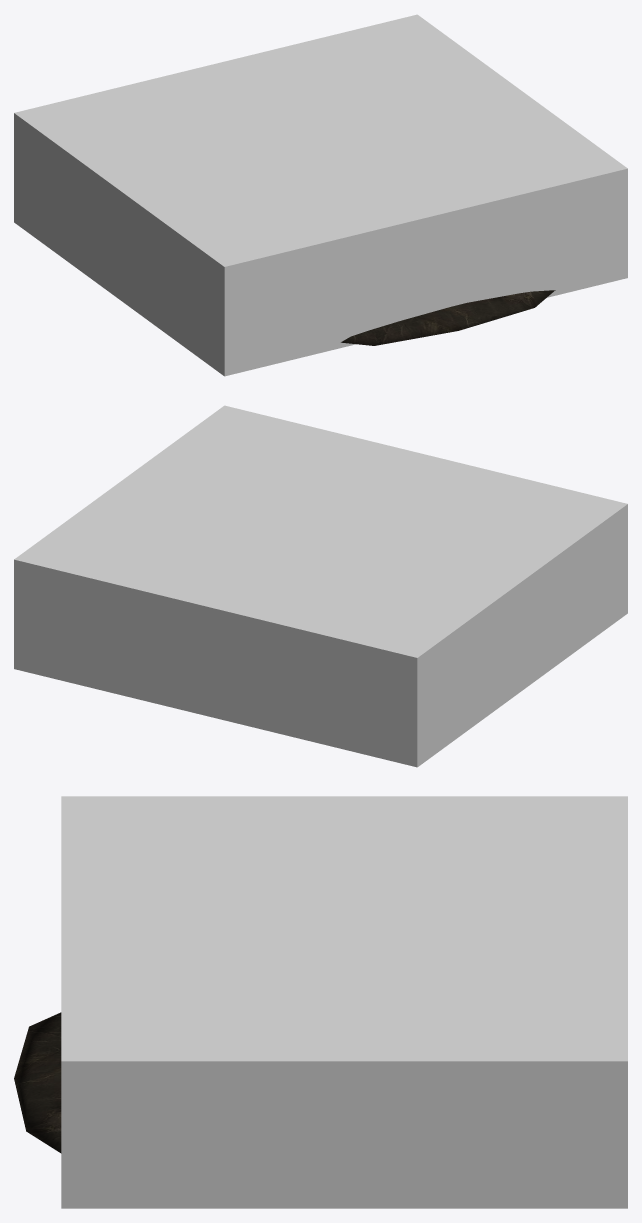
Rendered from sack_broken.glb.
3 views of the same model, one above another, from view 1: azimuth 30°, elevation 25°; view 2: azimuth 150°, elevation 25°; view 3: azimuth 270°, elevation 25° (orthographic). The views are drawn at different scales.
Visible parts, largest first — view 1: col_click, sack_broken; view 2: col_click; view 3: col_click, sack_broken.
Boxes of the visible parts, <box> form: col_click: <box>14,14,627,376</box>; sack_broken: <box>341,290,555,345</box>; col_click: <box>14,405,627,767</box>; col_click: <box>61,796,627,1208</box>; sack_broken: <box>14,1012,61,1153</box>.
Bounding box in the file's own units: 1.35 × 0.35 × 1.32.
Materials: 3 (2 with a texture image).
